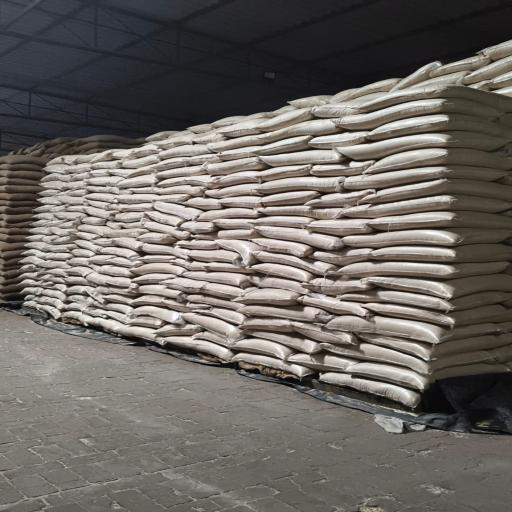Rice-bag-10: (321, 342, 494, 374), (335, 98, 503, 129), (326, 315, 505, 343), (342, 131, 505, 159), (348, 363, 511, 391), (346, 362, 508, 390), (357, 84, 511, 112), (363, 273, 511, 299), (359, 334, 505, 360), (345, 195, 510, 218), (346, 290, 511, 313), (367, 114, 511, 140), (368, 148, 511, 174), (345, 166, 505, 189), (320, 372, 420, 408), (364, 179, 511, 203), (343, 228, 510, 248), (368, 304, 506, 328), (342, 261, 508, 279), (367, 211, 511, 231), (370, 243, 511, 263), (234, 352, 316, 378), (253, 251, 337, 275), (256, 226, 343, 249), (263, 119, 341, 142), (183, 313, 243, 341), (249, 331, 321, 354), (170, 337, 234, 362), (241, 305, 333, 322), (255, 176, 344, 193), (391, 61, 441, 91), (261, 150, 347, 167), (293, 322, 358, 344), (300, 295, 368, 316), (463, 56, 511, 84), (288, 352, 358, 371), (233, 338, 296, 359), (431, 55, 490, 77), (259, 108, 315, 131), (303, 278, 374, 295), (307, 218, 374, 236), (306, 190, 374, 207), (255, 136, 312, 156), (344, 79, 401, 99), (206, 157, 268, 175), (252, 263, 314, 281), (309, 131, 368, 149), (236, 289, 301, 305), (207, 135, 264, 153), (310, 248, 367, 266), (251, 276, 308, 294), (218, 240, 259, 265), (313, 99, 366, 118), (190, 272, 249, 289), (255, 239, 313, 256), (311, 161, 374, 176), (154, 201, 203, 220), (408, 72, 469, 87), (130, 306, 183, 323), (261, 191, 320, 206), (210, 171, 261, 188), (190, 249, 241, 266), (80, 314, 124, 333), (260, 165, 312, 181), (189, 294, 241, 310), (144, 221, 190, 239), (240, 317, 294, 332), (220, 119, 264, 137), (158, 175, 214, 189), (88, 272, 136, 288), (138, 285, 185, 301), (207, 183, 256, 198), (199, 208, 258, 220), (479, 39, 511, 61), (163, 277, 207, 293), (88, 307, 129, 324), (254, 216, 312, 228), (0, 181, 43, 197), (142, 244, 190, 258), (134, 262, 185, 275), (161, 144, 211, 157), (203, 283, 243, 299), (205, 308, 245, 324), (73, 135, 137, 145), (158, 300, 210, 312), (118, 173, 158, 188), (155, 324, 201, 337), (118, 324, 155, 340), (217, 146, 259, 160), (150, 157, 192, 171), (259, 205, 312, 216), (158, 184, 206, 196), (288, 95, 332, 108), (157, 166, 204, 178), (200, 262, 251, 273), (158, 134, 195, 149), (219, 196, 262, 208), (0, 169, 43, 181), (129, 315, 165, 329), (134, 272, 175, 284), (108, 227, 149, 238), (138, 232, 175, 244), (218, 228, 258, 239), (177, 238, 216, 249), (187, 198, 222, 210), (124, 156, 159, 168), (151, 193, 192, 203), (211, 115, 245, 127), (182, 221, 216, 233), (189, 153, 223, 165), (101, 247, 138, 258), (117, 194, 162, 203), (124, 166, 155, 179), (98, 265, 131, 277), (489, 71, 511, 89), (112, 237, 142, 250), (0, 155, 43, 164), (146, 131, 181, 142), (192, 132, 227, 143), (81, 224, 113, 236), (67, 294, 93, 308), (86, 207, 114, 220), (310, 208, 343, 219), (108, 257, 141, 268), (89, 175, 122, 186), (102, 302, 132, 314), (331, 88, 358, 101), (0, 177, 38, 186), (132, 295, 166, 305), (0, 163, 42, 171), (132, 146, 159, 158), (0, 192, 36, 201), (105, 294, 134, 305), (174, 259, 203, 270), (0, 213, 31, 223), (116, 211, 144, 222), (118, 203, 151, 212), (88, 193, 117, 203), (68, 265, 92, 277), (76, 240, 100, 252), (91, 160, 123, 169), (67, 285, 93, 296), (86, 184, 117, 193), (141, 255, 175, 263), (187, 124, 213, 134), (88, 198, 111, 209), (245, 112, 276, 120), (42, 180, 66, 190), (273, 105, 297, 115), (124, 186, 158, 193), (89, 255, 113, 264), (67, 276, 91, 285), (73, 248, 96, 257), (83, 216, 105, 225), (31, 226, 52, 235), (142, 331, 152, 338), (123, 334, 140, 336), (113, 204, 116, 210)
other: (0, 311, 511, 512), (0, 0, 511, 153), (11, 310, 351, 406)
pile: (22, 42, 511, 425), (0, 156, 46, 303)
